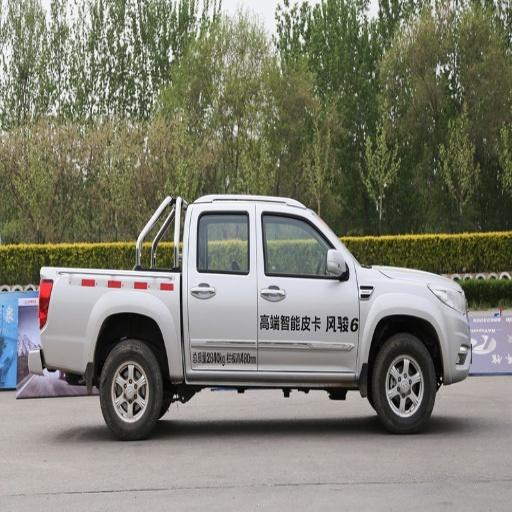back_right_door: (188, 204, 257, 368)
front_right_door: (258, 204, 360, 371)
trunk: (38, 271, 182, 377)
